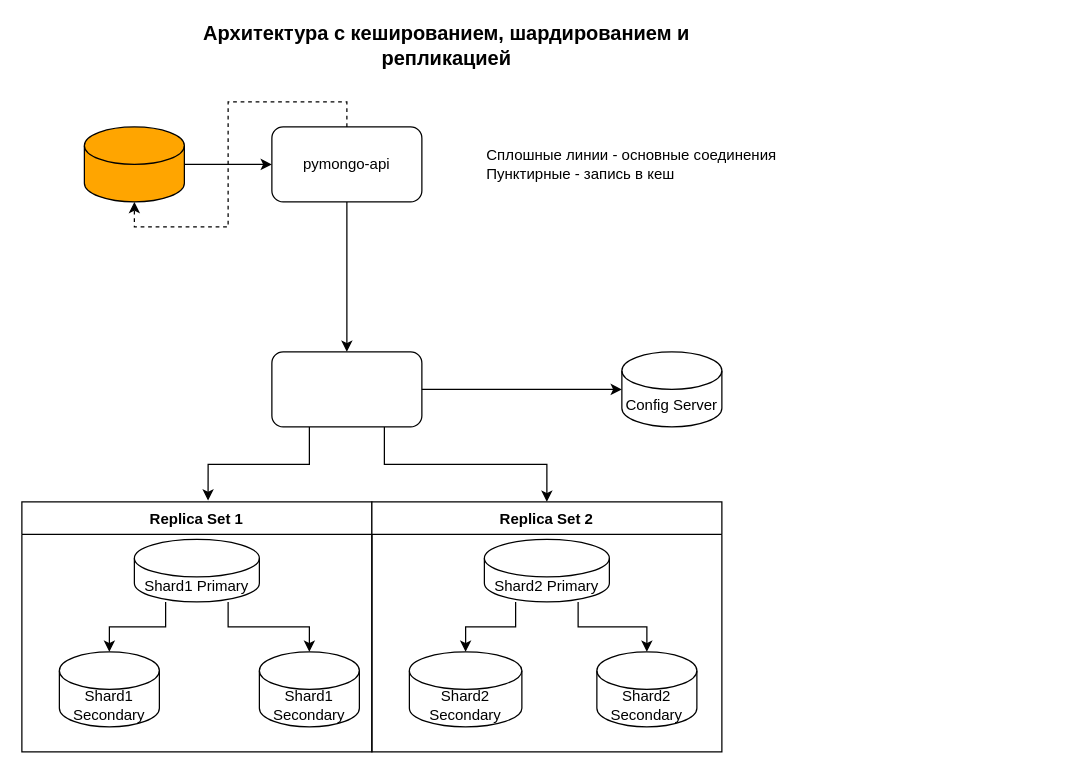
This 1081x774 diagram has some shape labels left out. The centre of each missing label's shape, as x and y in pixels:
"Mongos Router" goes at pixel 346 389.
"Redis Cache" goes at pixel 133 164.
